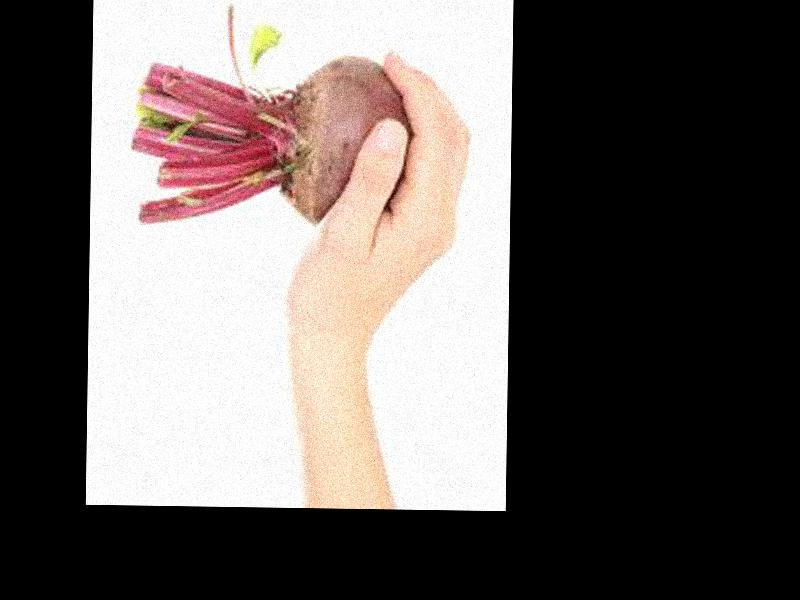Beet: (131, 1, 415, 226)
